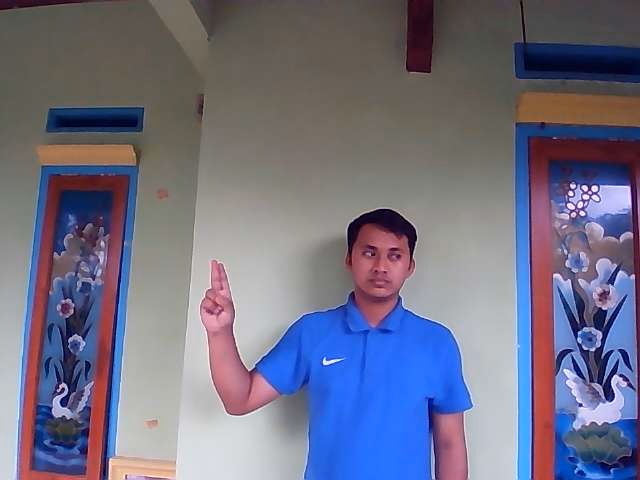U: (199, 259, 235, 331)
